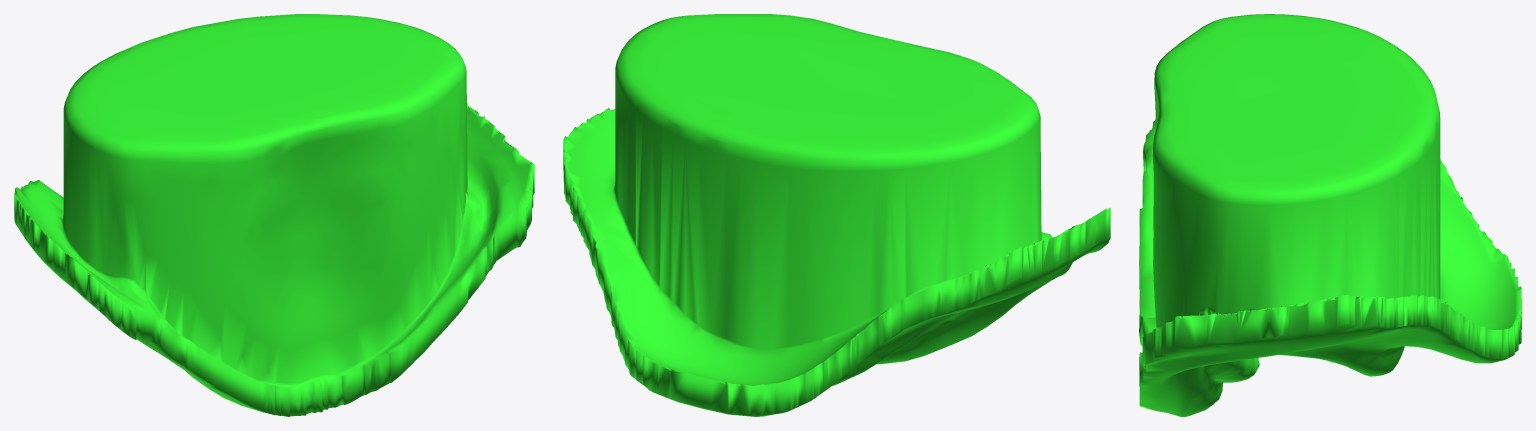
The model's file is Laughingmouth.obj.
3 renders of one model, left to right at view 1: azimuth 30°, elevation 25°; view 2: azimuth 150°, elevation 25°; view 3: azimuth 270°, elevation 25°, orthographic. The views are drawn at different scales.
Parts seen in each view (by area): view 1: Laughingmouth; view 2: Laughingmouth; view 3: Laughingmouth.
Boxes of the visible parts, x1,y1,x2,y2 form: Laughingmouth: [14, 14, 534, 416]; Laughingmouth: [563, 14, 1110, 416]; Laughingmouth: [1139, 14, 1521, 416].
Bounding box in the file's own units: 1 × 0.6391 × 0.7239.
